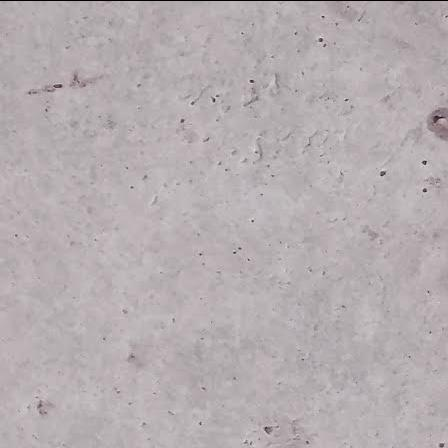spalling: (422, 105, 448, 142)
